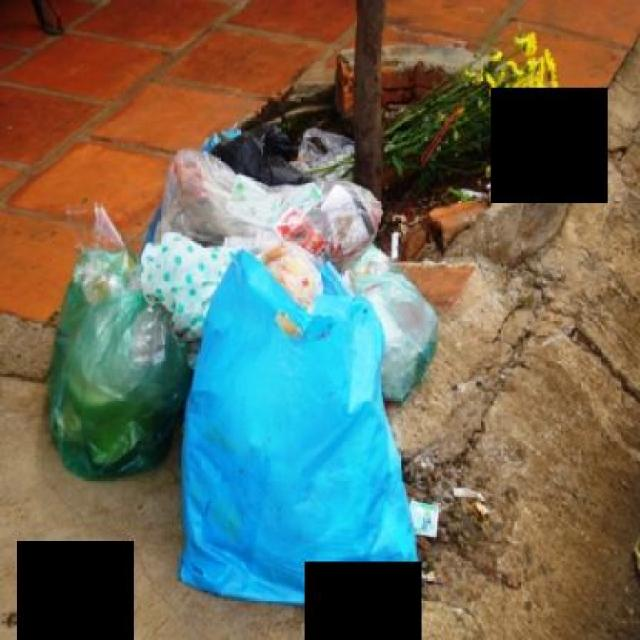plastic bag: (154, 124, 441, 634), (35, 226, 200, 492)
